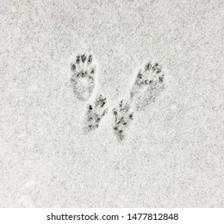squirrel: (84, 96, 109, 134)
